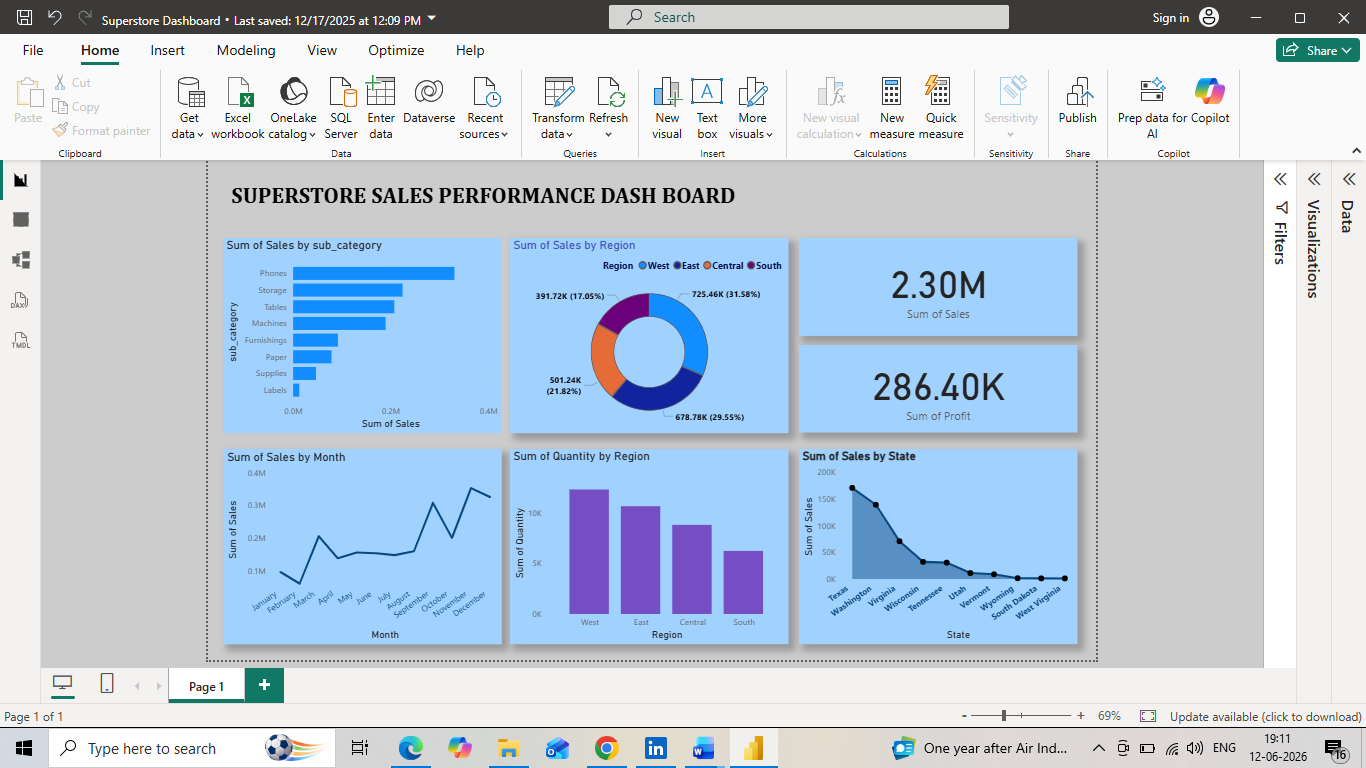

The dashboard page shown, as its layout file describes it:
{"tool":"powerbi","page":{"name":"Page 1","canvas":[1280,720],"ordinal":0},"visuals":[{"type":"lineChart","fields":{"Y":["Sum(Orders.Sales)"],"Category":["Orders.oder_date.Variation.Date Hierarchy.Year","Orders.oder_date.Variation.Date Hierarchy.Quarter","Orders.oder_date.Variation.Date Hierarchy.Month","Orders.oder_date.Variation.Date Hierarchy.Day"]},"box":[21.8,416.6,401.5,280.5],"z":0},{"type":"donutChart","fields":{"Y":["Sum(Orders.Sales)"],"Category":["Orders.Region"]},"box":[435.1,112.5,401.5,280.5],"z":1000},{"type":"card","fields":{"Values":["Sum(Orders.Sales)"]},"box":[851.7,112.5,401.5,141.1],"z":2000},{"type":"card","fields":{"Values":["Sum(Orders.Profit)"]},"box":[851.7,267.1,401.5,126],"z":3000},{"type":"lineClusteredColumnComboChart","fields":{"Y":["Sum(Orders.Quantity)"],"Category":["Orders.Region"]},"box":[435.1,416.6,401.5,280.5],"z":4000},{"type":"areaChart","fields":{"Y":["Sum(Orders.Sales)"],"Category":["Orders.State"]},"box":[851.7,416.6,401.5,280.5],"z":5000},{"type":"textbox","box":[21.6,10.1,802.1,80.6],"z":6000},{"type":"barChart","fields":{"Y":["Sum(Orders.Sales)"],"Category":["Orders.sub_category"]},"box":[21.8,112.5,401.5,280.5],"z":7000}]}

Visuals, with their boxes on the page's 1280x720 design canvas (x1, y1, x2, y2). These are canvas units, not pixel positions in the 1366x768 screenshot, which may show the page scaled, cropped or inside an application window:
lineChart - Sum(Orders.Sales) x Orders.oder_date.Variation.Date Hierarchy.Year: [x1=22, y1=417, x2=423, y2=697]
donutChart - Sum(Orders.Sales) x Orders.Region: [x1=435, y1=112, x2=837, y2=393]
card - Sum(Orders.Sales): [x1=852, y1=112, x2=1253, y2=254]
card - Sum(Orders.Profit): [x1=852, y1=267, x2=1253, y2=393]
lineClusteredColumnComboChart - Sum(Orders.Quantity) x Orders.Region: [x1=435, y1=417, x2=837, y2=697]
areaChart - Sum(Orders.Sales) x Orders.State: [x1=852, y1=417, x2=1253, y2=697]
textbox: [x1=22, y1=10, x2=824, y2=91]
barChart - Sum(Orders.Sales) x Orders.sub_category: [x1=22, y1=112, x2=423, y2=393]
